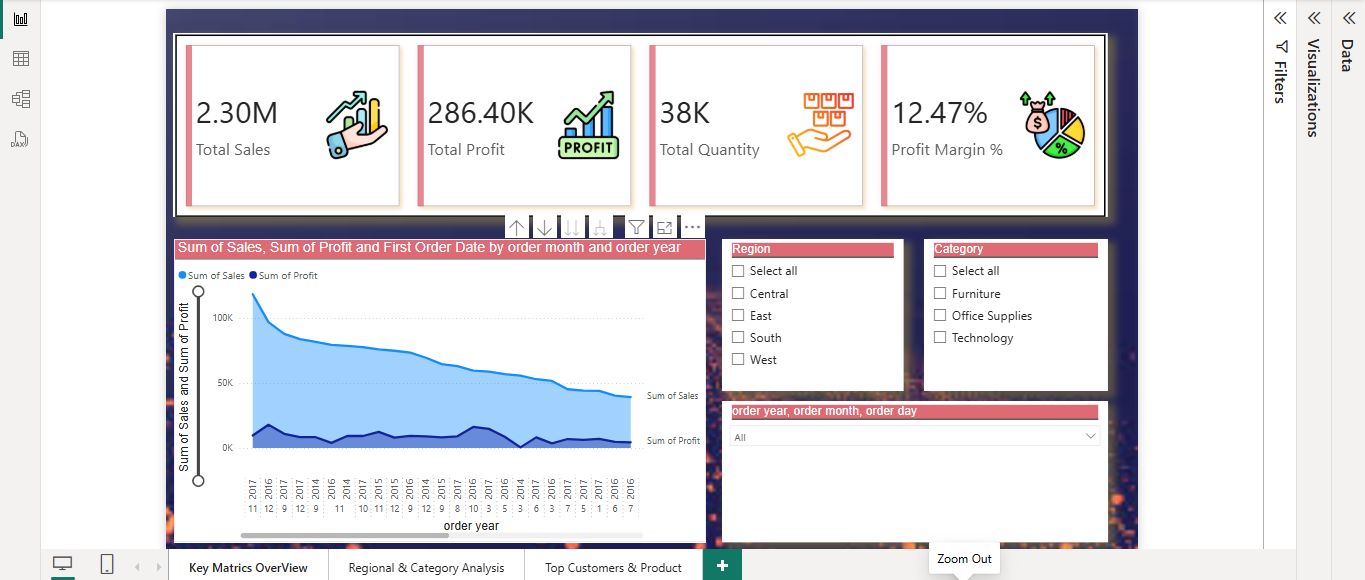

This screenshot's page, from the dashboard's own definition file:
{"tool":"powerbi","page":{"name":"Key Matrics OverView","canvas":[1280,720],"ordinal":0},"visuals":[{"type":"cardVisual","fields":{"Data":["Sum(Sample - Superstore.Sales)","Sum(Sample - Superstore.Profit)","Sum(Sample - Superstore.Quantity)","Sample - Superstore.Profit Margin %"]},"box":[9,31,1230.5,242],"z":0},{"type":"lineChart","fields":{"Y":["Sum(Sample - Superstore.Sales)","Sum(Sample - Superstore.Profit)"],"Category":["Sample - Superstore.order month","Sample - Superstore.order year"]},"box":[10,302.9,700,398.6],"z":1000},{"type":"slicer","fields":{"Values":["Sample - Superstore.Region"]},"box":[732.2,302.8,239.5,199.6],"z":2000},{"type":"slicer","fields":{"Values":["Sample - Superstore.Category"]},"box":[997.8,302.8,242.2,199.6],"z":3000},{"type":"slicer","fields":{"Values":["Sample - Superstore.order year","Sample - Superstore.order month","Sample - Superstore.order day"]},"box":[732.2,516.1,507.9,185.8],"z":4000}]}

Visuals, with their boxes in screenshot pixels (x1, y1, x2, y2):
cardVisual - Sum(Sample - Superstore.Sales) x Sum(Sample - Superstore.Profit): l=163, t=27, r=1105, b=213
lineChart - Sum(Sample - Superstore.Sales) x Sum(Sample - Superstore.Profit): l=164, t=235, r=700, b=541
slicer - Sample - Superstore.Region: l=717, t=235, r=900, b=388
slicer - Sample - Superstore.Category: l=920, t=235, r=1106, b=388
slicer - Sample - Superstore.order year x Sample - Superstore.order month: l=717, t=399, r=1106, b=541
